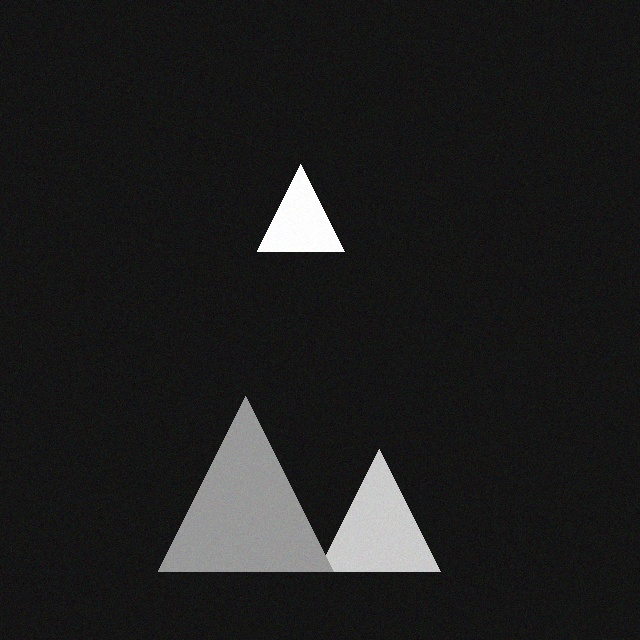triangle: (167, 409, 342, 584), (327, 462, 449, 584), (266, 177, 353, 264)
